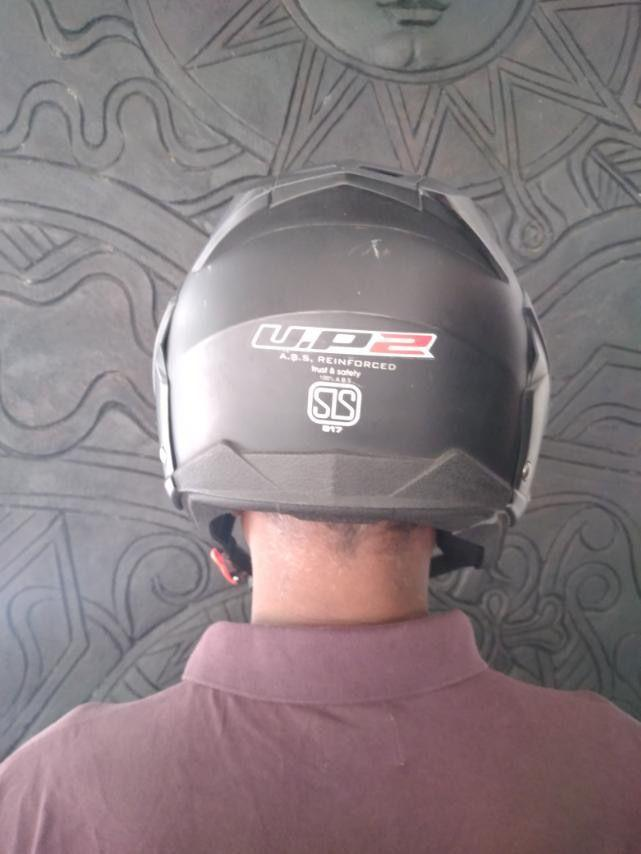helmet: (149, 161, 551, 543)
